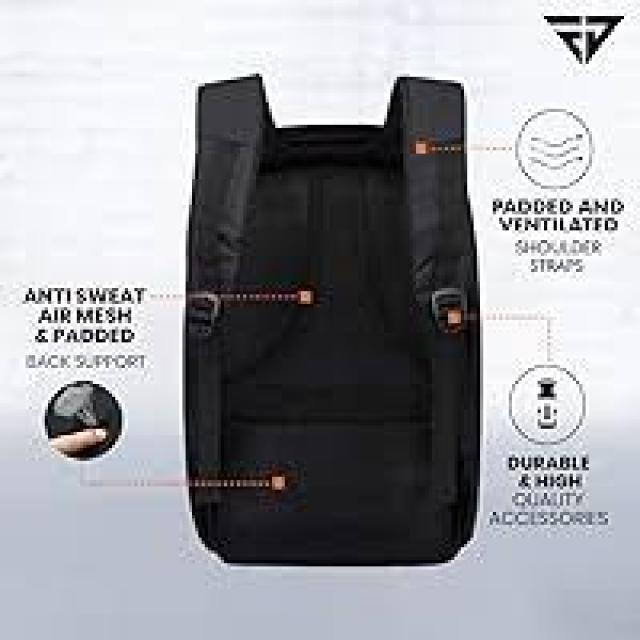backpack: (183, 72, 481, 568)
